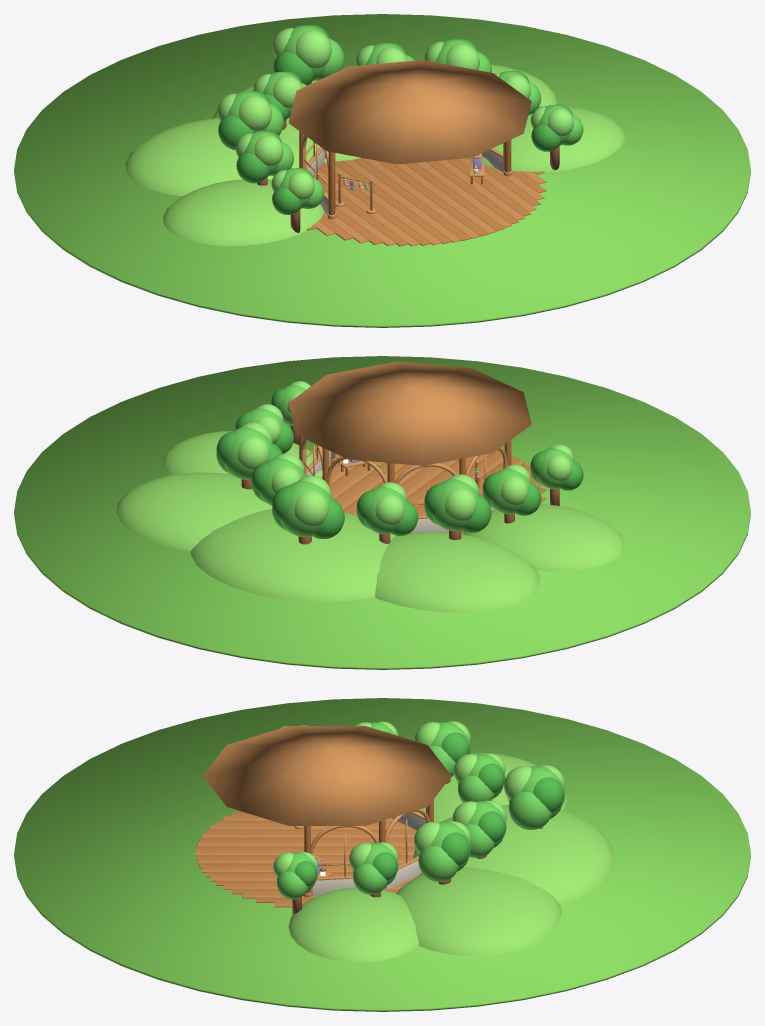
Rendered from sanctuary_hall.glb.
3 views of the same model, one above another, from view 1: azimuth 30°, elevation 25°; view 2: azimuth 150°, elevation 25°; view 3: azimuth 270°, elevation 25° (orthographic).
Visible parts, largest first — view 1: Cylinder.062, Cone.007, Sphere.161, Sphere.158, Sphere.162, Sphere.214, Cube.011, Cube.012, Cube.010, Cube.013, Sphere.172, Cube.014 (+24 smaller); view 2: Cylinder.062, Cone.007, Sphere.159, Sphere.158, Sphere.160, Sphere.161, Sphere.162, Sphere.211, Sphere.215, Sphere.169, Sphere.187, Sphere.173 (+10 smaller); view 3: Cylinder.062, Cone.007, Sphere.160, Sphere.159, Sphere.162, Sphere.158, Sphere.213, Sphere.189, Cube.010, Cube.009, Cube.008, Cube.011 (+17 smaller).
Part boxes in pixels (bbox=[...]): Cylinder.062: bbox=[14, 14, 750, 327]; Cone.007: bbox=[288, 60, 531, 164]; Sphere.161: bbox=[163, 179, 323, 245]; Sphere.158: bbox=[125, 118, 312, 196]; Sphere.162: bbox=[471, 106, 624, 172]; Sphere.214: bbox=[296, 30, 331, 68]; Cube.011: bbox=[343, 159, 461, 242]; Cube.012: bbox=[353, 158, 470, 240]; Cube.010: bbox=[335, 161, 451, 243]; Cube.013: bbox=[362, 158, 479, 238]; Sphere.172: bbox=[239, 95, 272, 130]; Cube.014: bbox=[378, 161, 488, 236]; Cylinder.062: bbox=[14, 356, 750, 669]; Cone.007: bbox=[288, 361, 531, 465]; Sphere.159: bbox=[190, 509, 395, 602]; Sphere.158: bbox=[375, 531, 540, 612]; Sphere.160: bbox=[116, 472, 272, 551]; Sphere.161: bbox=[463, 504, 624, 571]; Sphere.162: bbox=[163, 431, 322, 478]; Sphere.211: bbox=[280, 481, 331, 536]; Sphere.215: bbox=[294, 490, 328, 527]; Sphere.169: bbox=[432, 479, 478, 530]; Sphere.187: bbox=[224, 427, 271, 479]; Sphere.173: bbox=[445, 488, 476, 521]; Cylinder.062: bbox=[14, 698, 750, 1011]; Cone.007: bbox=[203, 726, 451, 825]; Sphere.160: bbox=[396, 867, 561, 956]; Sphere.159: bbox=[413, 804, 614, 903]; Sphere.162: bbox=[288, 887, 418, 962]; Sphere.158: bbox=[418, 753, 566, 822]; Sphere.213: bbox=[508, 791, 551, 829]; Sphere.189: bbox=[418, 846, 458, 881]; Cube.010: bbox=[199, 837, 413, 841]; Cube.009: bbox=[202, 833, 415, 837]; Cube.008: bbox=[206, 829, 416, 833]; Cube.011: bbox=[197, 842, 414, 846].
Size of the model in its own units: 32 by 7.13 by 32.
